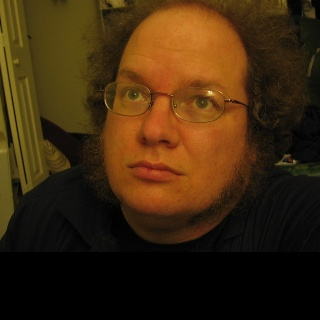without_mask: (102, 3, 250, 219)
